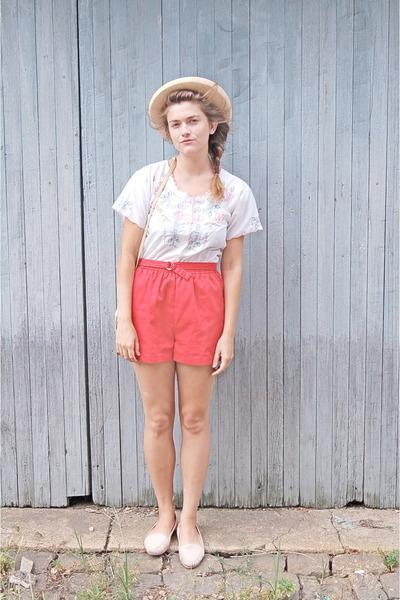hat: (140, 59, 227, 107)
shirt: (112, 160, 262, 262)
shoe: (144, 519, 205, 563)
skirt: (129, 260, 224, 365)
